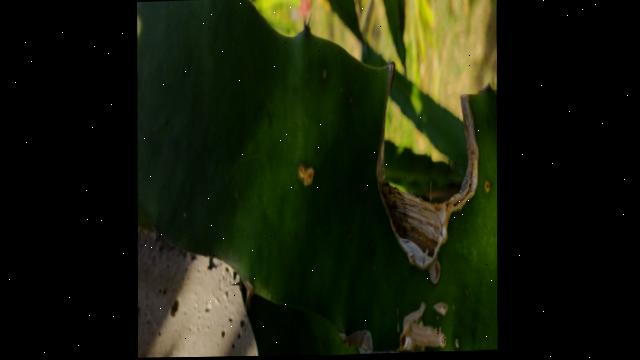stemcanker: (293, 160, 320, 193), (480, 175, 495, 197)
